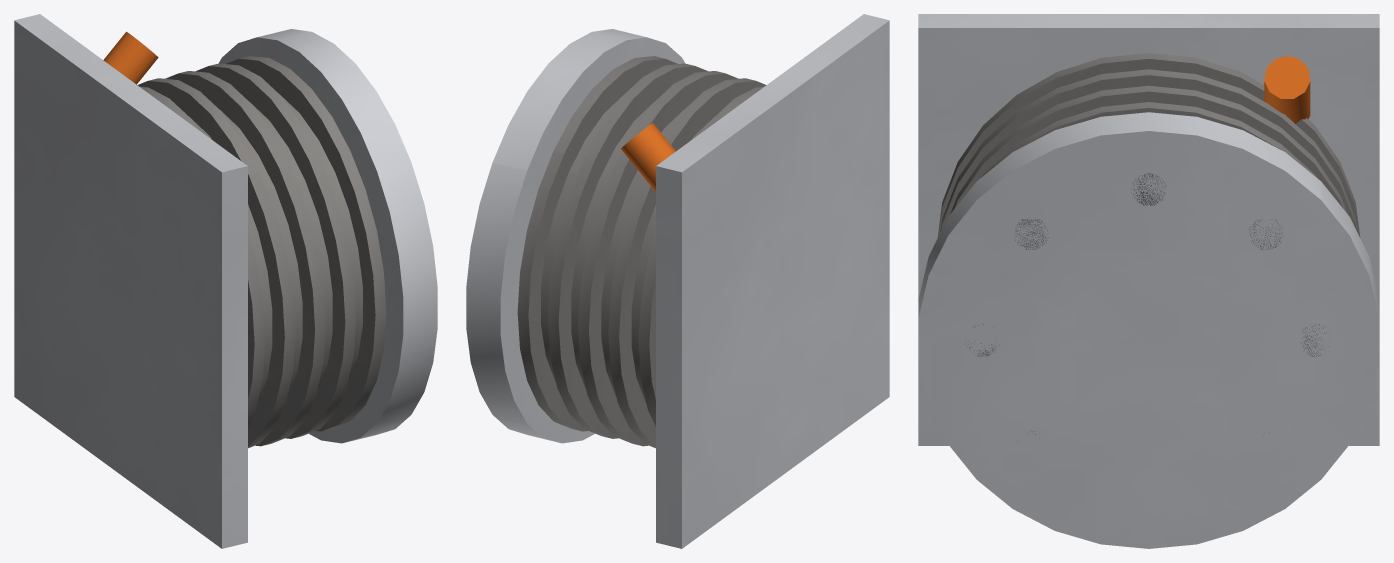
Rendered from rover19_hub_drive_motor_m.glb.
The picture shows the model from 3 angles, left to right: view 1: azimuth 30°, elevation 25°; view 2: azimuth 150°, elevation 25°; view 3: azimuth 270°, elevation 25°; orthographic projection. The views are drawn at different scales.
Visible parts, largest first — view 1: mount_plate, fins, wheel_hub, stator, cable; view 2: mount_plate, fins, wheel_hub, stator, cable; view 3: wheel_hub, mount_plate, fins, cable, hub_bolts.
Part boxes in pixels (x1,y1,x2,y2): mount_plate: (14, 14, 247, 548); fins: (137, 56, 386, 448); wheel_hub: (218, 29, 437, 443); stator: (190, 95, 362, 403); cable: (103, 31, 158, 84); mount_plate: (656, 14, 889, 548); fins: (517, 56, 766, 448); wheel_hub: (466, 29, 685, 443); stator: (541, 95, 713, 403); cable: (621, 123, 675, 191); wheel_hub: (918, 112, 1379, 548); mount_plate: (918, 14, 1379, 445); fins: (937, 53, 1360, 237); cable: (1264, 56, 1310, 123); hub_bolts: (969, 173, 1326, 430).
Bounding box in the file's own units: 0.18 × 0.3 × 0.3.
4 materials, 2 textured.
